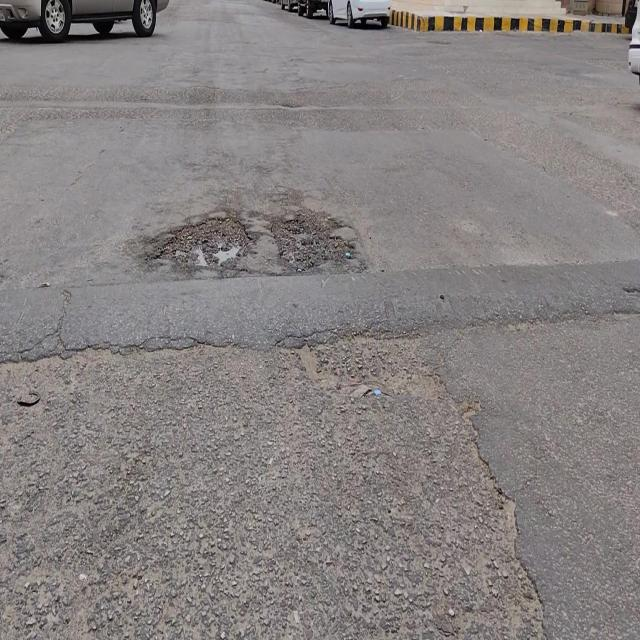Potholes: (151, 214, 252, 275), (269, 204, 353, 271)
